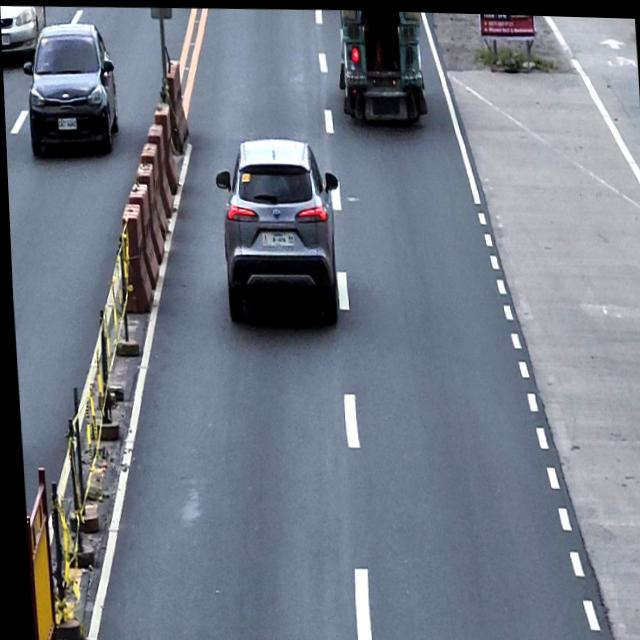Car: (210, 132, 345, 329), (19, 16, 121, 155), (0, 4, 49, 64)
Jeep: (332, 8, 427, 130)
License-Plate: (258, 228, 293, 248), (56, 116, 76, 130), (1, 34, 11, 45)
